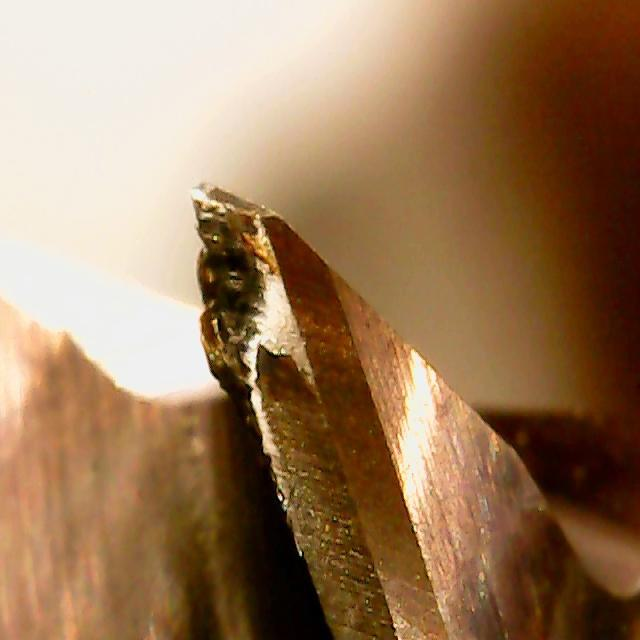Tool-wear-class-3: (178, 170, 344, 409)
